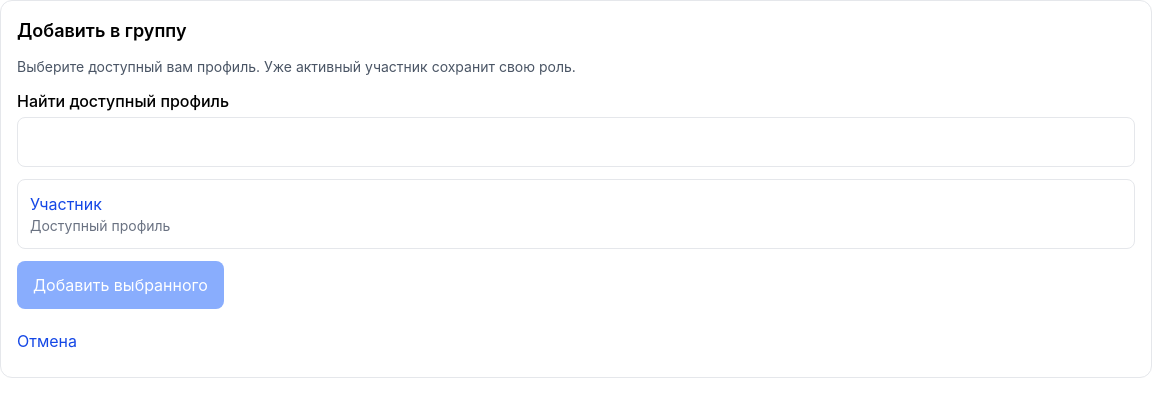
Scenario: серверный отказ не сообщает об успехе
Click the button "Участник Доступный профиль" at x=66, y=204, box [17,179,1135,249]
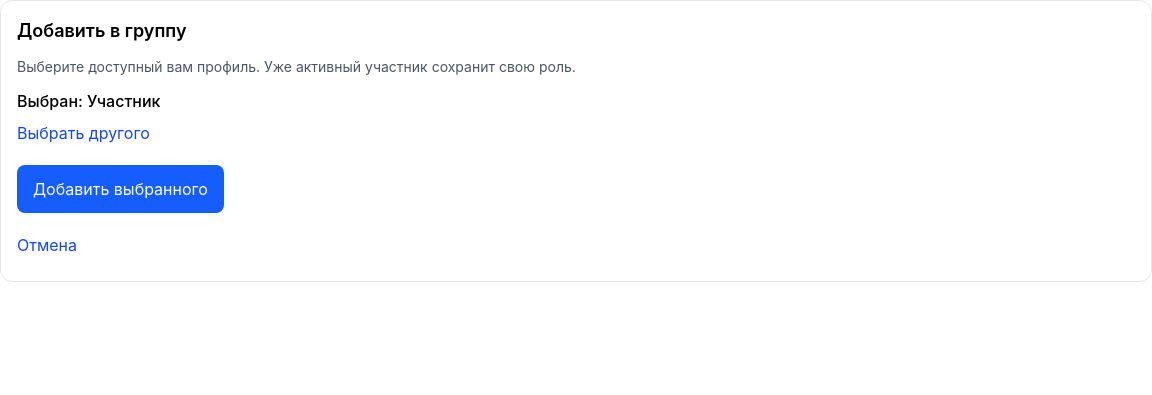
Submit the form "Добавить выбранного", box [17,91,224,213]
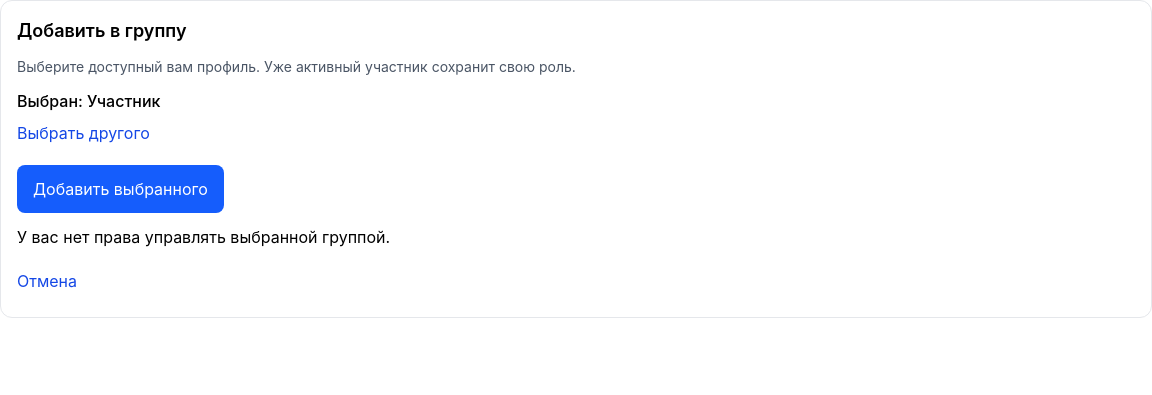
Now the button "Добавить выбранного" is enabled, box [17,165,224,213]
Now the message "У вас нет права управлять выбранной группой." is shown, box [17,227,390,247]
